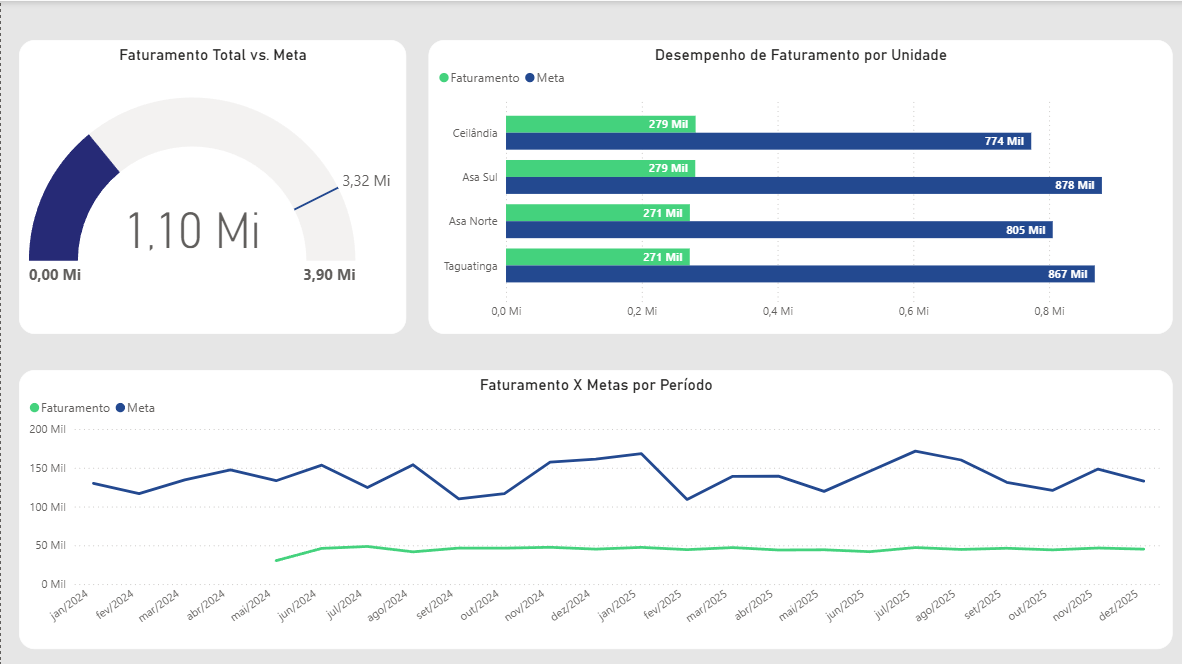

What the dashboard file says about the page in this screenshot:
{"tool":"powerbi","page":{"name":"Metas","canvas":[1280,720],"ordinal":3},"visuals":[{"type":"gauge","title":"Faturamento Total vs. Meta","fields":{"TargetValue":["barber metas.Meta"],"Y":["Sum(barber atendimentos.valor)"]},"box":[19.4,42.1,417.8,317.4],"z":0},{"type":"lineChart","title":"Faturamento X Metas por Período","fields":{"Category":["barber metas.MesAno"],"Y":["barber atendimentos.Faturamento","barber metas.Meta"]},"box":[19.4,398.3,1245.2,301.2],"z":1000},{"type":"clusteredBarChart","title":"Desempenho de Faturamento por Unidade","fields":{"Category":["dUnidade.unidade"],"Y":["barber atendimentos.Faturamento","barber metas.Meta"]},"box":[461.5,42.1,803.1,317.4],"z":2000}]}

Visuals, with their boxes in screenshot pixels (x1, y1, x2, y2), scaled from the page's 1280x720 canvas onto the 1182x664 screenshot:
"Faturamento Total vs. Meta" gauge: {"x1": 18, "y1": 39, "x2": 404, "y2": 332}
"Faturamento X Metas por Período" lineChart: {"x1": 18, "y1": 367, "x2": 1168, "y2": 645}
"Desempenho de Faturamento por Unidade" clusteredBarChart: {"x1": 426, "y1": 39, "x2": 1168, "y2": 332}
